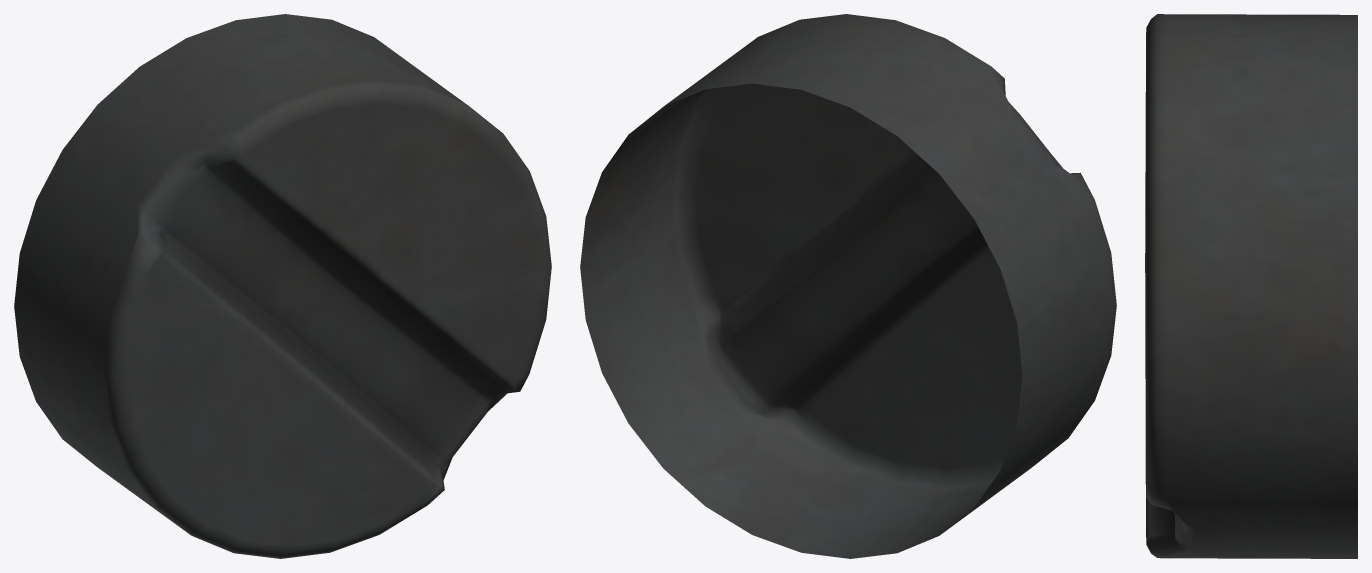
Rendered from Screw_06.dae.
The picture shows the model from 3 angles, left to right: view 1: azimuth 30°, elevation 25°; view 2: azimuth 150°, elevation 25°; view 3: azimuth 270°, elevation 25°; orthographic projection. The views are drawn at different scales.
Visible parts, largest first — view 1: Screw_06_LOD0; view 2: Screw_06_LOD0; view 3: Screw_06_LOD0.
Boxes of the visible parts, x1,y1,x2,y2 form: Screw_06_LOD0: (14,14,551,558); Screw_06_LOD0: (580,14,1116,558); Screw_06_LOD0: (1145,14,1357,558).
Size of the model in its own units: 9.94 by 9.95 by 3.88.
